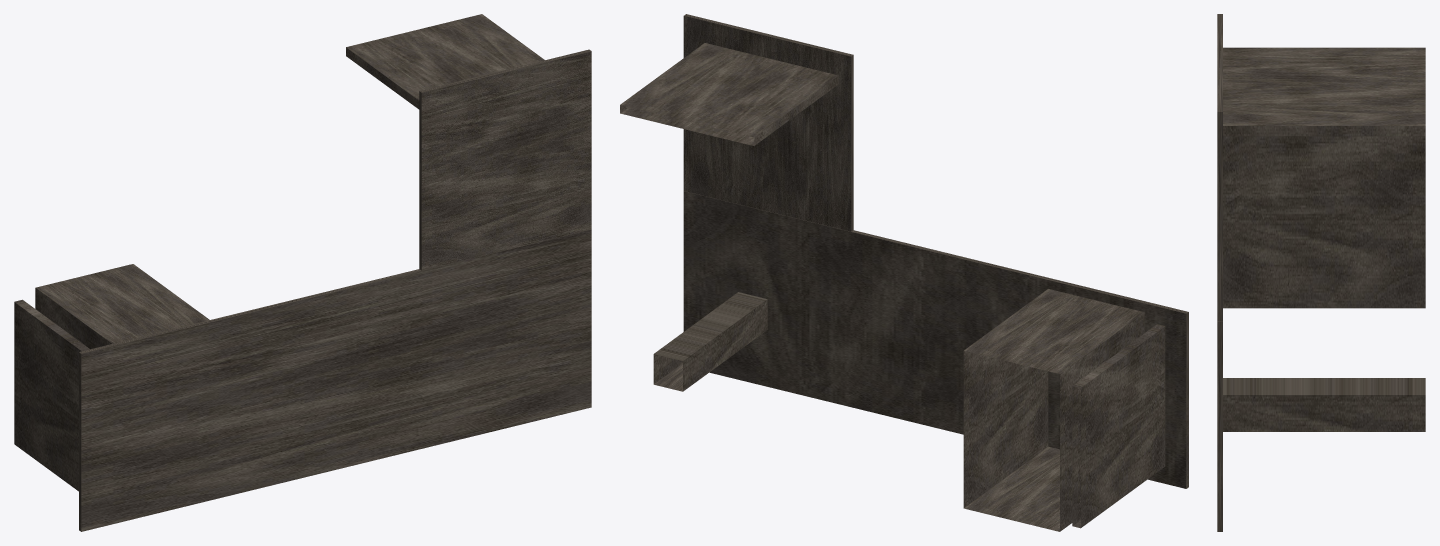
The model's file is deskL52_wtf.obj.
The picture shows the model from 3 angles, left to right: view 1: azimuth 30°, elevation 25°; view 2: azimuth 150°, elevation 25°; view 3: azimuth 270°, elevation 25°; orthographic projection. The views are drawn at different scales.
Visible parts, largest first — view 1: group4, group7, group5, group2, group3; view 2: group4, group5, group7, group3, group2; view 3: group3, group5, group7, group4.
Part boxes in pixels (box(x1,y1,x2,y2)): group4: box(79, 229, 591, 531); group7: box(419, 49, 591, 270); group5: box(14, 14, 544, 531); group2: box(36, 264, 209, 343); group3: box(35, 288, 111, 349); group4: box(683, 191, 1188, 488); group5: box(620, 43, 1188, 528); group7: box(683, 14, 853, 231); group3: box(963, 312, 1144, 531); group2: box(964, 289, 1143, 531); group3: box(1223, 136, 1425, 308); group5: box(1223, 47, 1425, 431); group7: box(1217, 14, 1222, 321); group4: box(1217, 321, 1222, 531).
Bounding box in the file's own units: 660 × 440 × 198.
